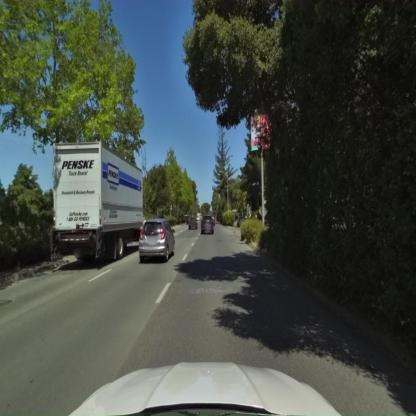car: (138, 219, 176, 263), (201, 213, 218, 241), (187, 208, 199, 233)
truck: (52, 142, 146, 263)
